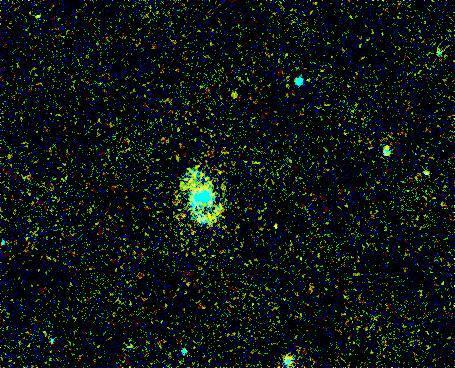star: (263, 211, 293, 241)
